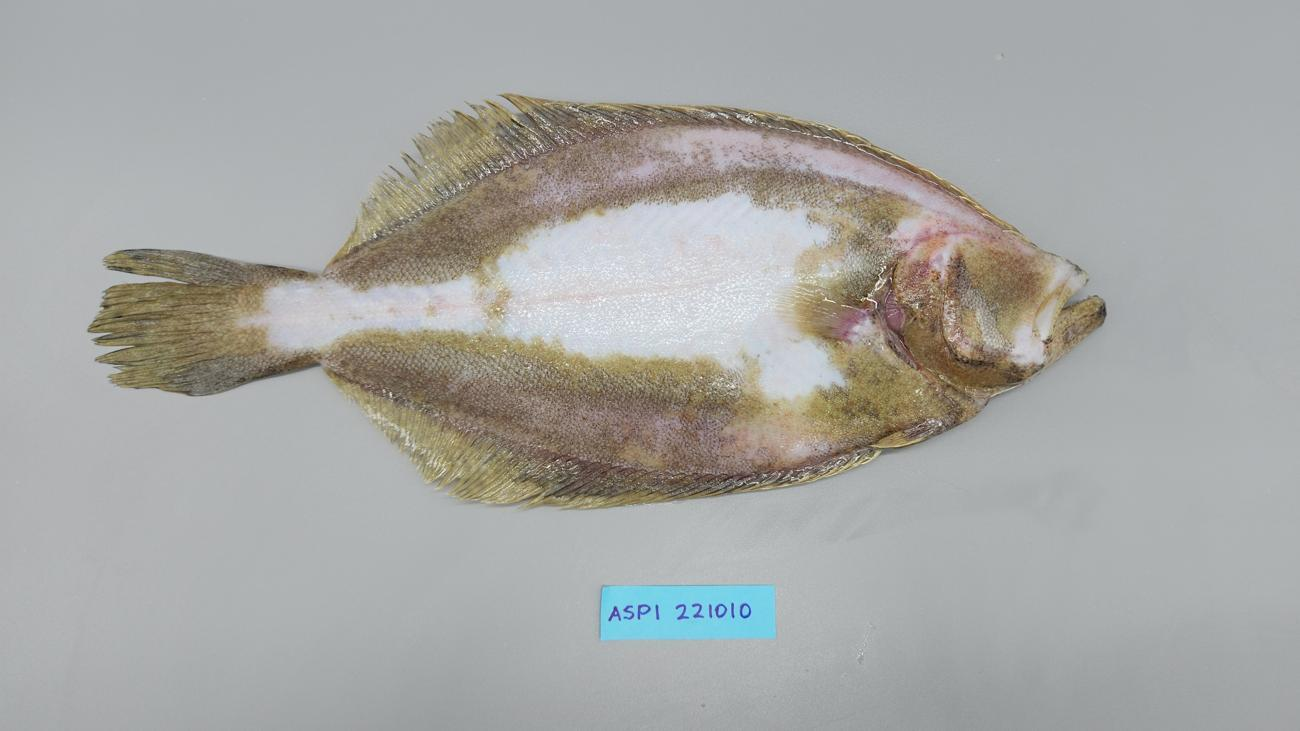SPDYH: (829, 295, 871, 341), (424, 287, 465, 321)
SPFCH: (104, 249, 245, 395)
SPOUY: (80, 78, 1119, 525)
